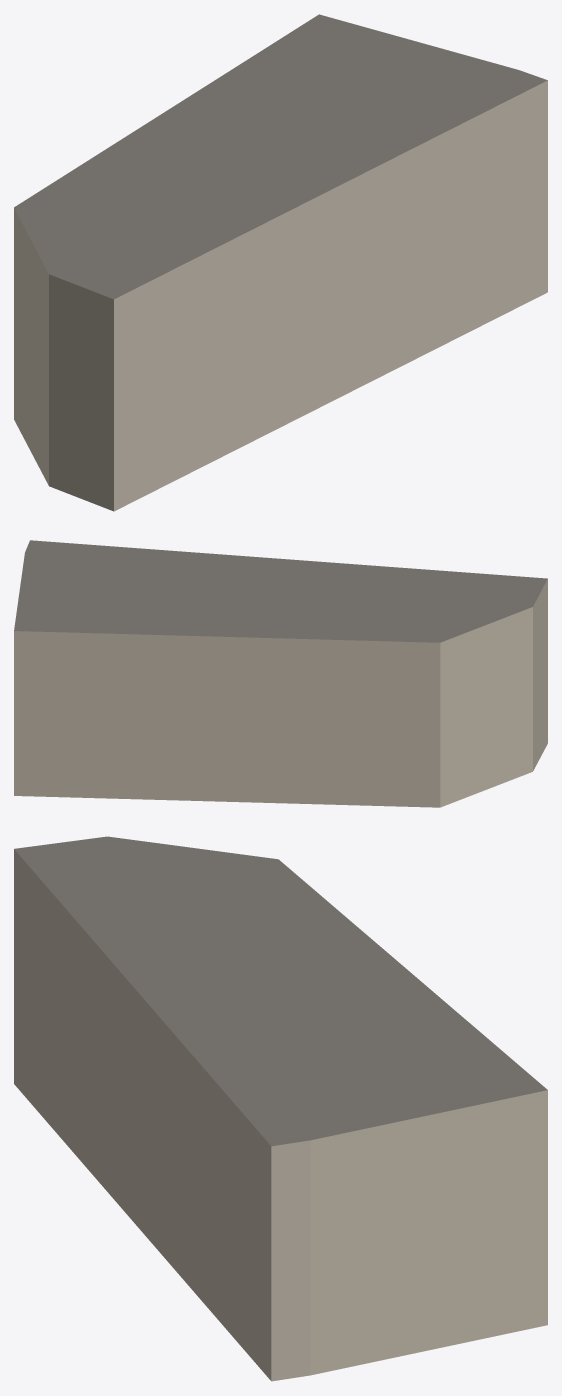
3 views of the same model, one above another, from view 1: azimuth 30°, elevation 25°; view 2: azimuth 150°, elevation 25°; view 3: azimuth 270°, elevation 25° (orthographic). The views are drawn at different scales.
Visible parts, largest first — view 1: HP-w1203860014; view 2: HP-w1203860014; view 3: HP-w1203860014.
Part boxes in pixels (<box>): HP-w1203860014: <box>14,14,547,511</box>; HP-w1203860014: <box>14,540,547,807</box>; HP-w1203860014: <box>14,836,547,1381</box>.
Bounding box in the file's own units: 33.92 × 12 × 24.7.
